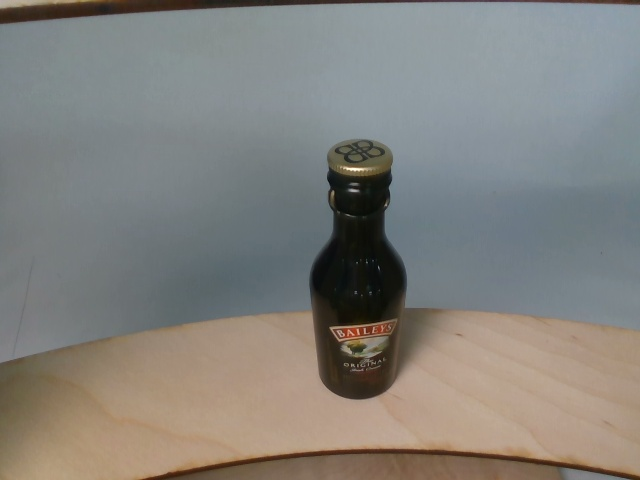coke: (310, 139, 407, 401)
